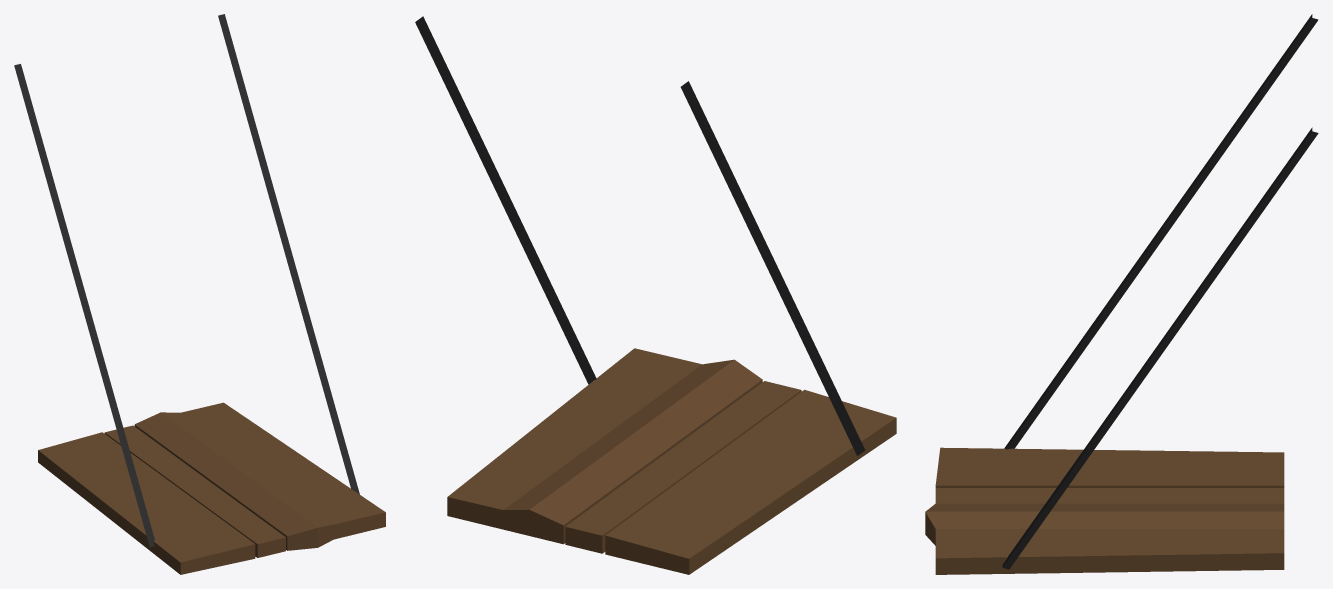
File: medieval-drawbridge-medieval.glb
The picture shows the model from 3 angles, left to right: view 1: azimuth 30°, elevation 25°; view 2: azimuth 150°, elevation 25°; view 3: azimuth 270°, elevation 25°; orthographic projection. The views are drawn at different scales.
Visible parts, largest first — view 1: drawbridge-medieval; view 2: drawbridge-medieval; view 3: drawbridge-medieval.
Part boxes in pixels (<box>): drawbridge-medieval: <box>14,14,385,574</box>; drawbridge-medieval: <box>415,16,896,574</box>; drawbridge-medieval: <box>925,14,1318,574</box>.
Size of the model in its own units: 3.53 by 6.26 by 5.
